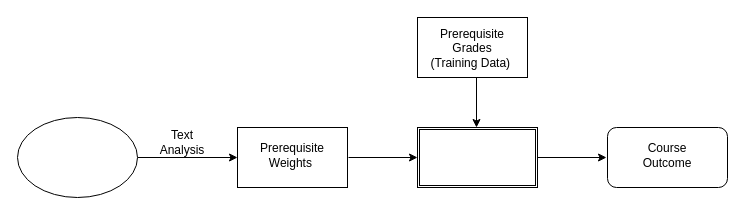
Some shapes in this 745 by 215 pixel diagram are drawn without their labels. The shapes that lost their labels are listed below. From the top down, each one's centre as x and y in pixels, then its label:
At point 77,157: "Course Corpus".
At point 477,157: "Predictive Model".
